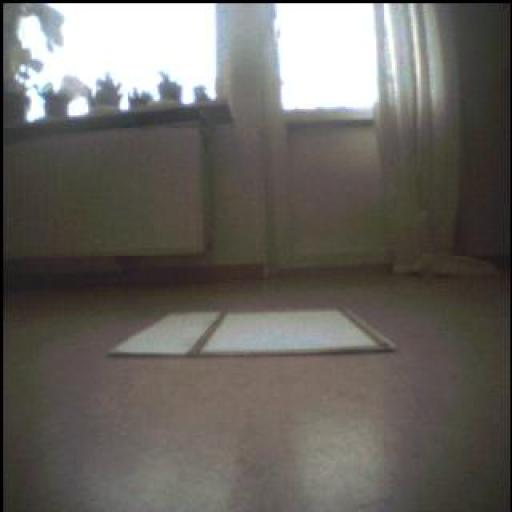Pad: (107, 290, 390, 359)
